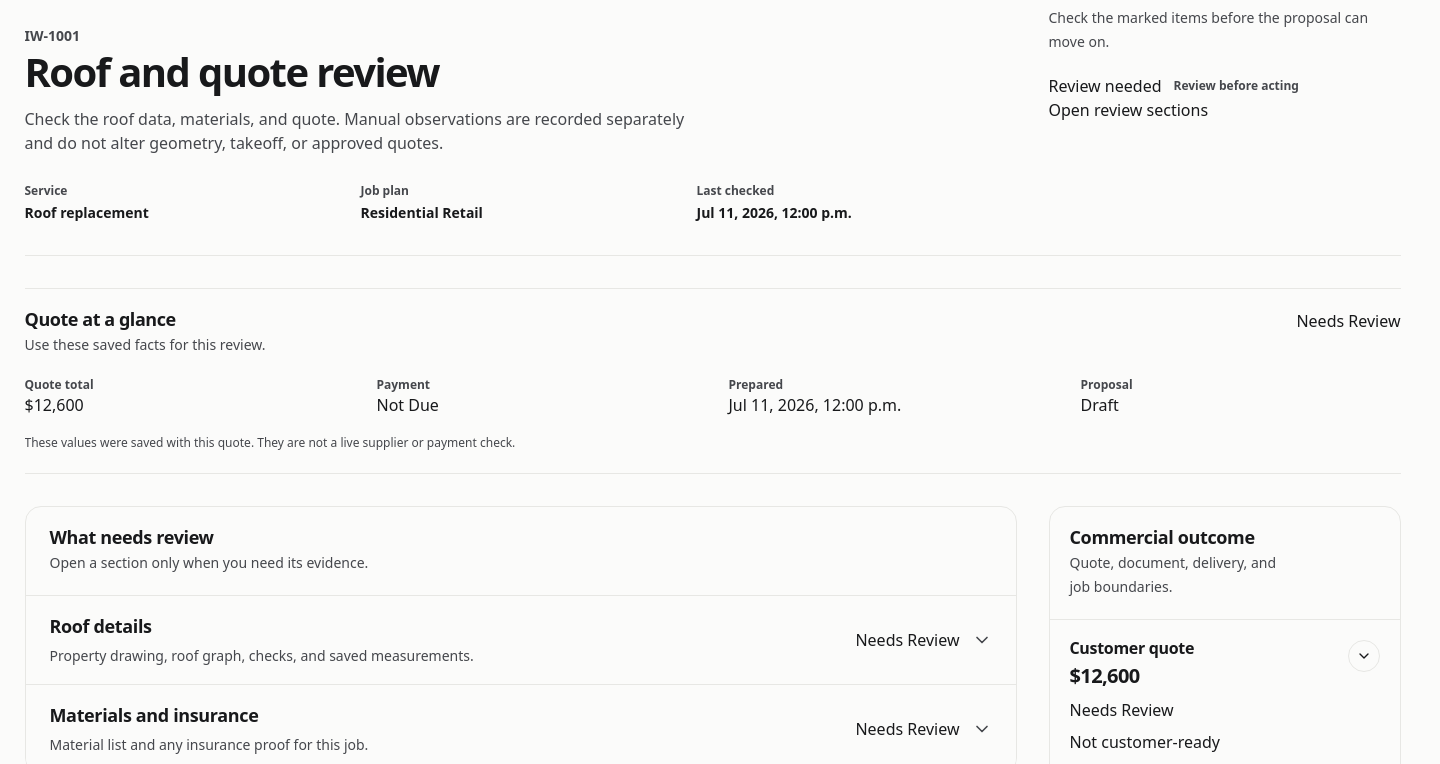
Test: EstimatorWorkbenchPage › keeps blocked or unapproved visual evidence useful without rendering its URL
Expected: the heading "Roof and quote review" is shown, [24,44,439,99]
Click the text "Roof details": (101, 626) [50,614,152,638]
(page scrolled)
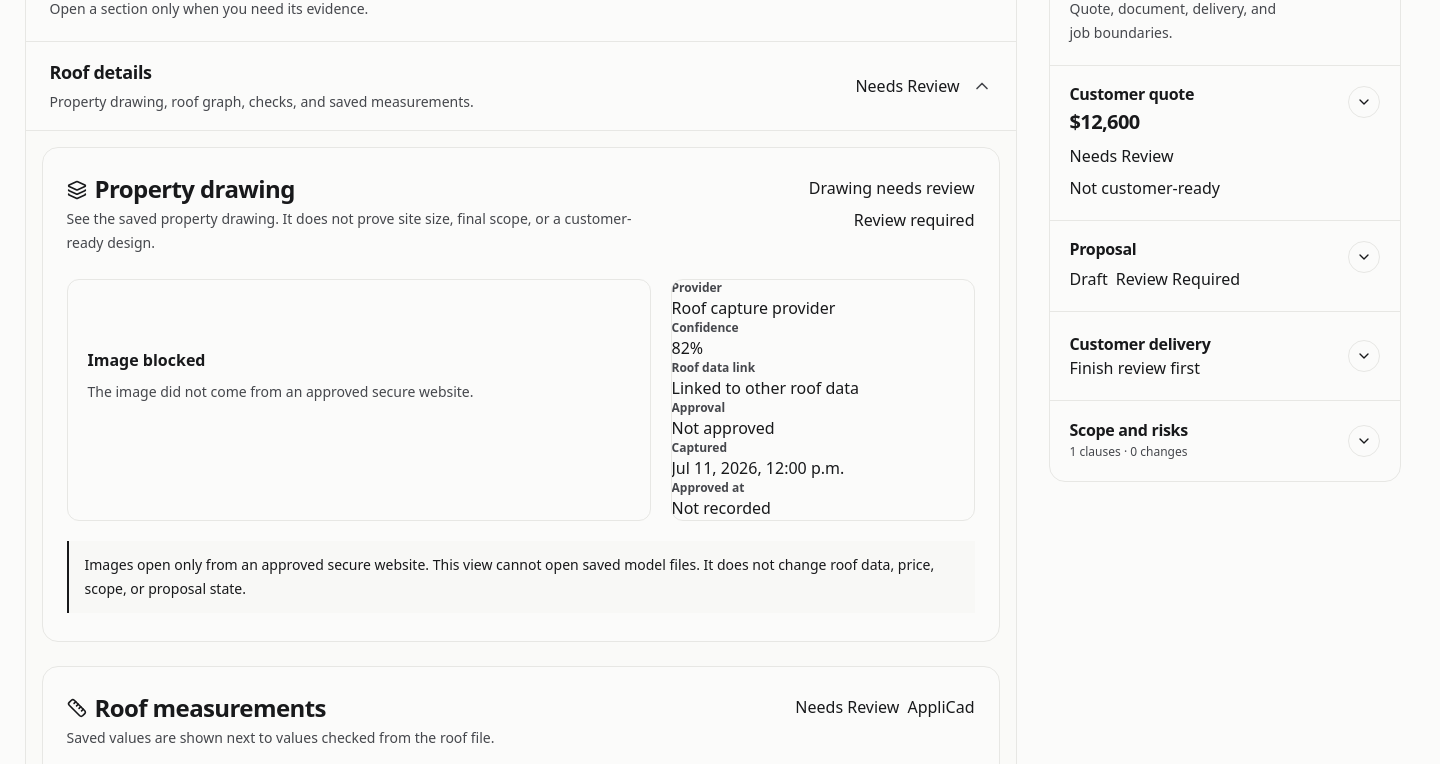
Expected: the heading "Property drawing" is shown, [66,172,295,205]
Expected: the text "Drawing needs review" is shown, [809,176,974,200]
Expected: the text "Linked to other roof data" is shown, [672,377,859,399]
